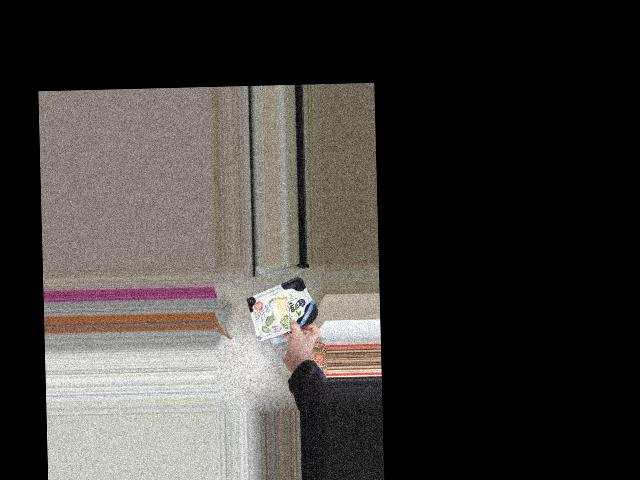cheese: (247, 286, 315, 335)
